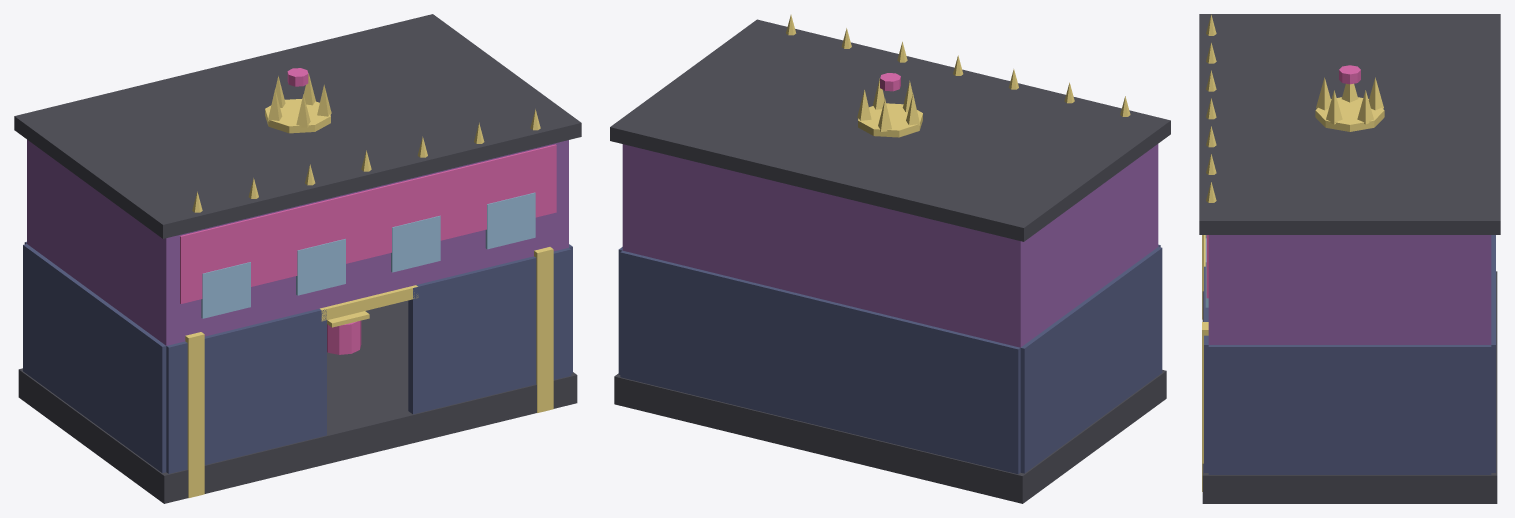
Rendered from RivalShop.fbx.
3 renders of one model, left to right at view 1: azimuth 30°, elevation 25°; view 2: azimuth 150°, elevation 25°; view 3: azimuth 270°, elevation 25°, orthographic. The views are drawn at different scales.
Parts seen in each view (by area): view 1: RV_roof, RV_body_upper, RV_base, RV_sign_bg, RV_wall_front_L, RV_wall_right, RV_wall_front_R, RV_col_R, RV_col_L, RV_w2_0, RV_w2_1, RV_w2_2 (+4 smaller); view 2: RV_roof, RV_body_upper, RV_wall_back, RV_wall_right, RV_base, RV_crown_base; view 3: RV_roof, RV_wall_left, RV_body_upper, RV_base, RV_crown_base, RV_wall_back, RV_wall_front_L, RV_col_L, RV_crown_gem.
Part boxes in pixels (left/top/right/bottom): RV_roof: left=14, top=14, right=581, bottom=238; RV_body_upper: left=27, top=139, right=568, bottom=345; RV_base: left=18, top=300, right=577, bottom=503; RV_sign_bg: left=180, top=144, right=556, bottom=303; RV_wall_front_L: left=408, top=248, right=571, bottom=414; RV_wall_right: left=23, top=244, right=166, bottom=473; RV_wall_front_R: left=166, top=308, right=326, bottom=473; RV_col_R: left=185, top=332, right=204, bottom=498; RV_col_L: left=534, top=247, right=553, bottom=412; RV_w2_0: left=485, top=192, right=535, bottom=249; RV_w2_1: left=391, top=215, right=440, bottom=272; RV_w2_2: left=296, top=239, right=345, bottom=295; RV_roof: left=610, top=19, right=1170, bottom=241; RV_body_upper: left=622, top=144, right=1158, bottom=347; RV_wall_back: left=620, top=250, right=1020, bottom=474; RV_wall_right: left=1020, top=247, right=1162, bottom=473; RV_base: left=614, top=370, right=1166, bottom=503; RV_crown_base: left=858, top=103, right=922, bottom=137; RV_roof: left=1199, top=14, right=1500, bottom=234; RV_wall_left: left=1208, top=345, right=1491, bottom=474; RV_body_upper: left=1208, top=235, right=1491, bottom=344; RV_base: left=1202, top=271, right=1497, bottom=503; RV_crown_base: left=1315, top=97, right=1384, bottom=131; RV_wall_back: left=1491, top=235, right=1495, bottom=472; RV_wall_front_L: left=1204, top=266, right=1208, bottom=472; RV_col_L: left=1202, top=322, right=1208, bottom=491; RV_crown_gem: left=1339, top=65, right=1360, bottom=84.
Bounding box in the file's own units: 15.6 × 11.68 × 9.6.
